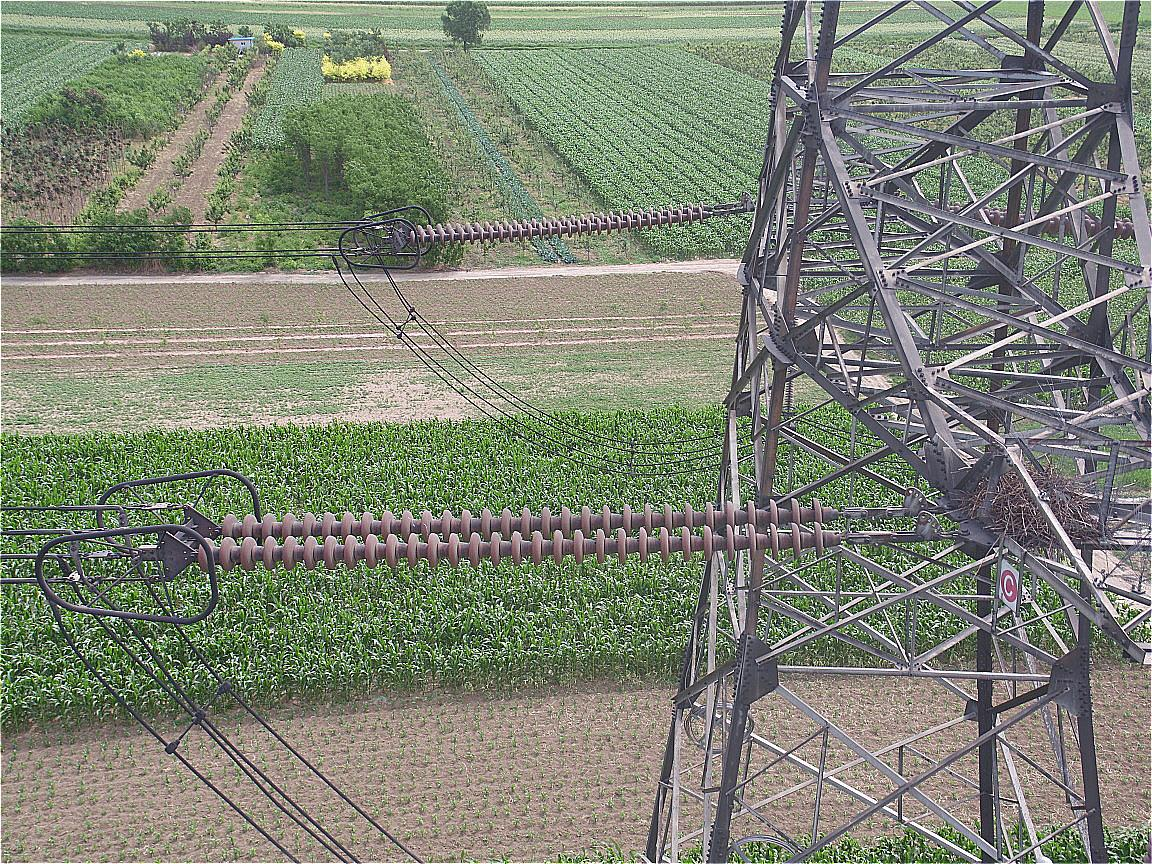insultor1: (196, 495, 839, 571), (408, 197, 706, 250)
